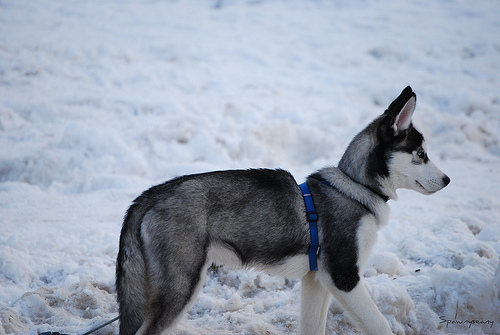dog: (116, 85, 451, 334)
